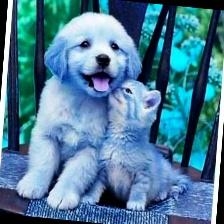kedo: (81, 80, 190, 212)
